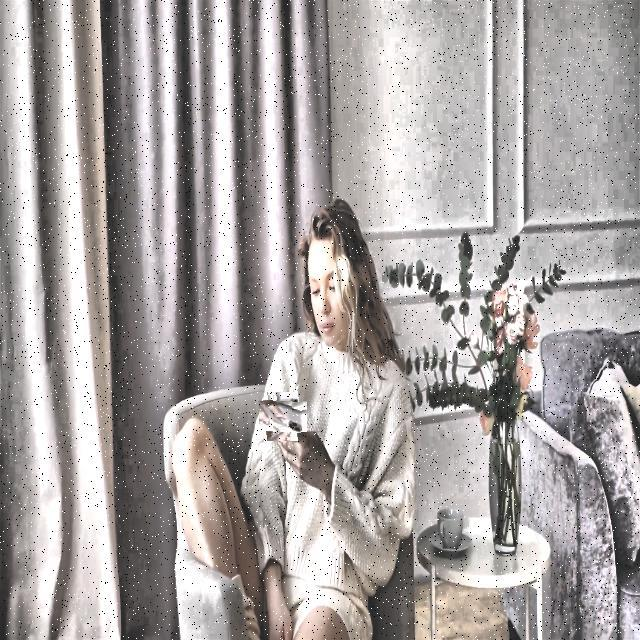Phone: (262, 396, 303, 437)
